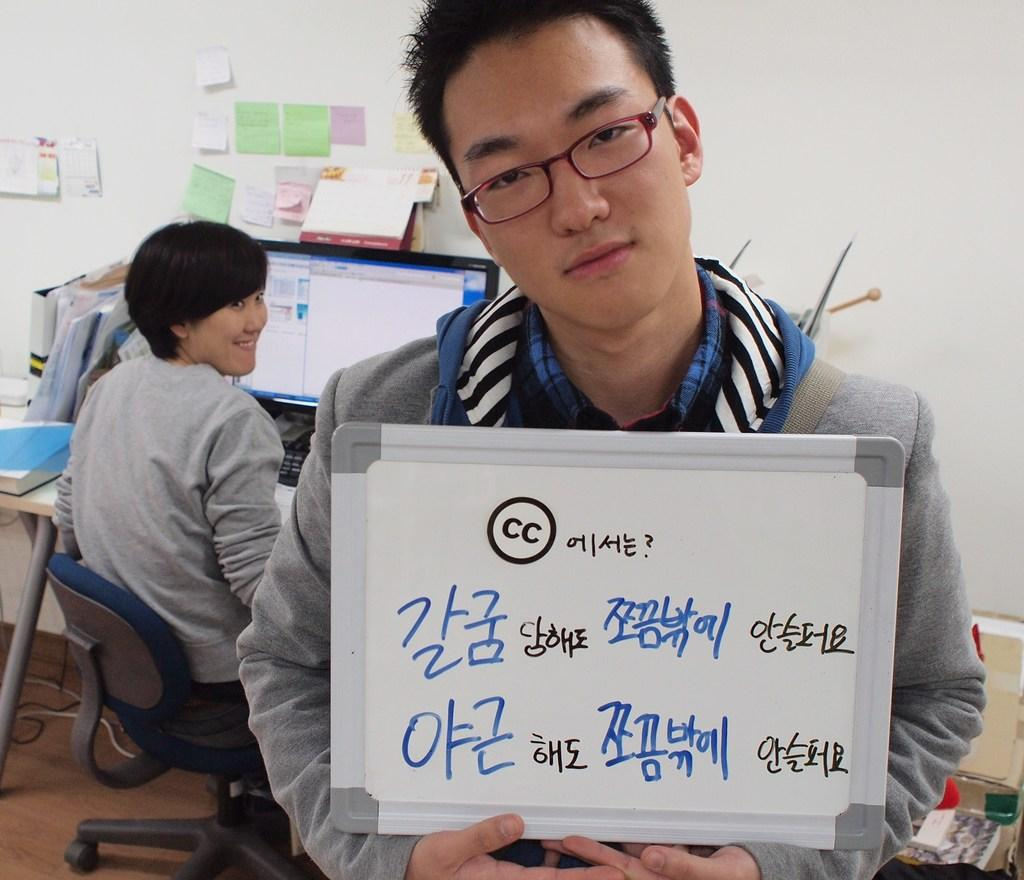Chair: (45, 551, 306, 879)
